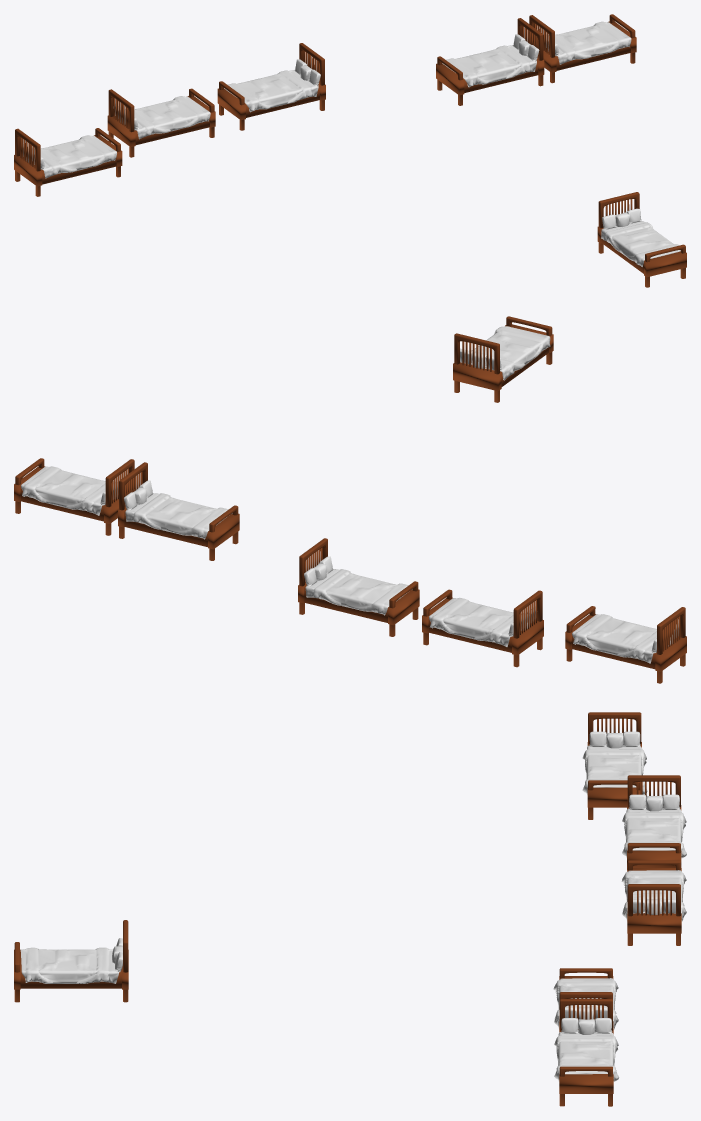
File: bed.fbx
3 views of the same model, one above another, from view 1: azimuth 30°, elevation 25°; view 2: azimuth 150°, elevation 25°; view 3: azimuth 270°, elevation 25° (orthographic). The views are drawn at different scales.
Visible parts, largest first — view 1: bed.002, bed.003, bed.006, bed.005, bed.004, bed.001; view 2: bed.003, bed.002, bed.004, bed.005, bed.006, bed.001; view 3: bed.001, bed.006, bed.005, bed.004, bed.003, bed.002.
Boxes of the visible parts, box(x1,y1,x2,y2) form: bed.002: box(436, 18, 544, 105); bed.003: box(217, 43, 325, 130); bed.006: box(597, 192, 686, 287); bed.005: box(14, 128, 122, 196); bed.004: box(107, 88, 215, 157); bed.001: box(529, 14, 636, 83); bed.003: box(298, 538, 419, 636); bed.002: box(118, 462, 239, 560); bed.004: box(422, 589, 543, 667); bed.005: box(565, 606, 686, 683); bed.006: box(453, 316, 553, 402); bed.001: box(14, 458, 134, 535); bed.001: box(554, 999, 618, 1106); bed.006: box(14, 920, 128, 1002); bed.005: box(582, 712, 647, 819); bed.004: box(622, 775, 686, 870); bed.003: box(621, 860, 686, 945); bed.002: box(553, 968, 618, 1029).
Bounding box in the file's own units: 9081 × 762 × 7711.
